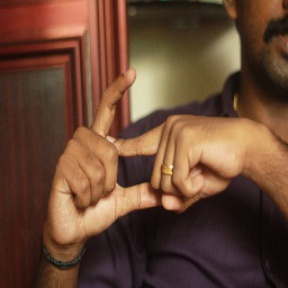E: (79, 61, 193, 212)
